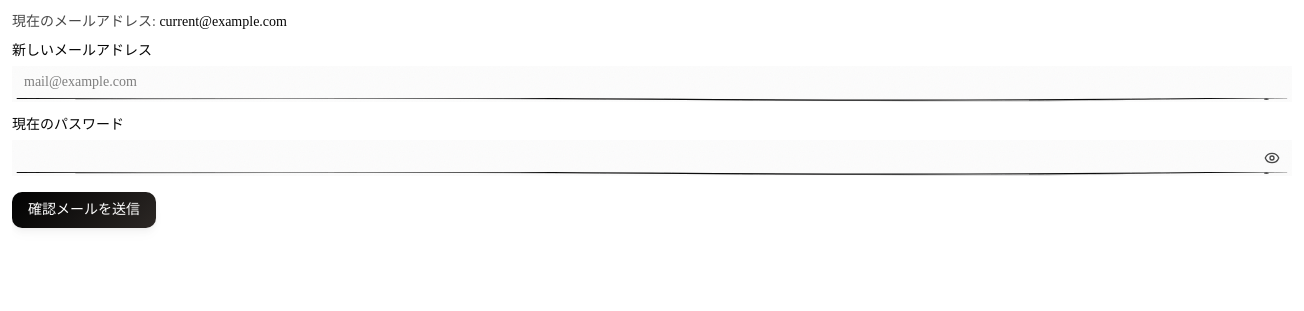
EmailChangeForm › 送信処理 › 現パスワード不一致の場合 result.error をそのまま表示する
Type "new@example.com" into the field labelled "新しいメールアドレス" at (652, 84), box 12,66 -> 1292,102
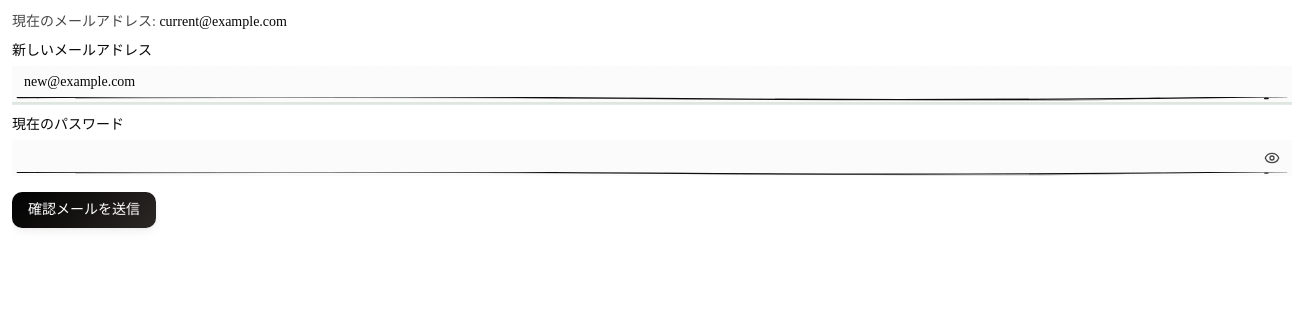
Type "wrongPass1" into the password field labelled "現在のパスワード" at (652, 158), box 12,140 -> 1292,176
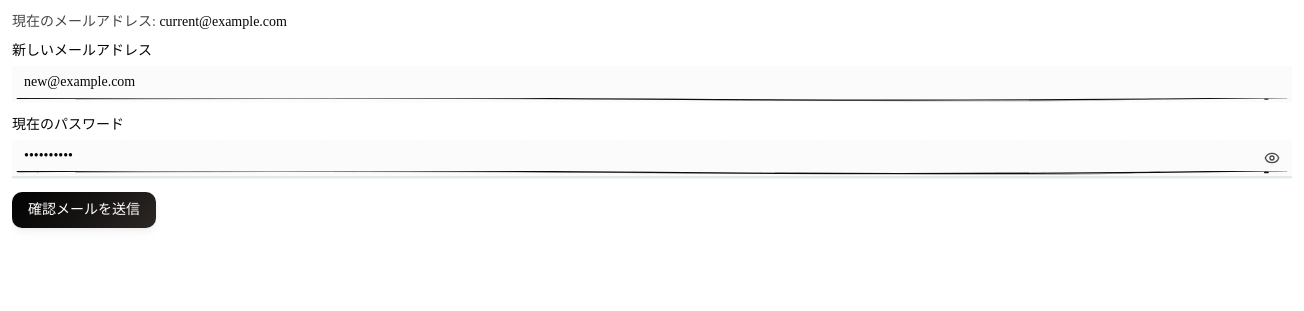
Click the button "確認メールを送信" at (84, 210), box 12,192 -> 156,228
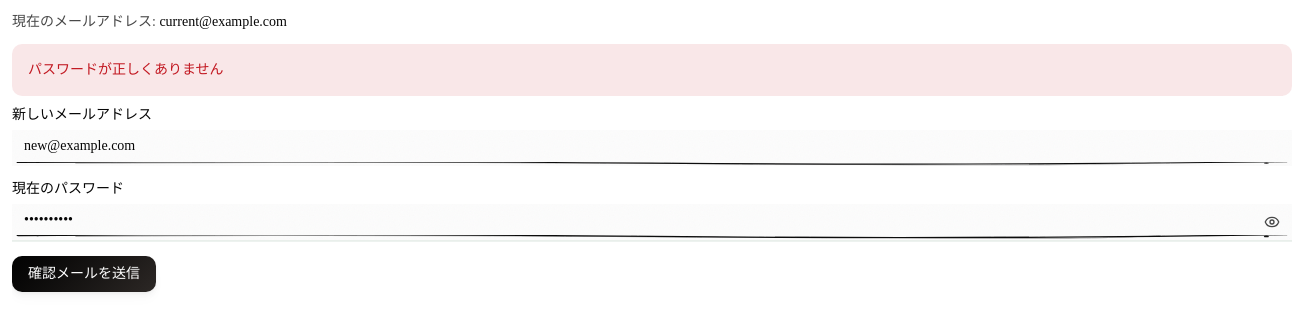
Now the text "パスワードが正しくありません" is shown, box 12,44 -> 1292,96
